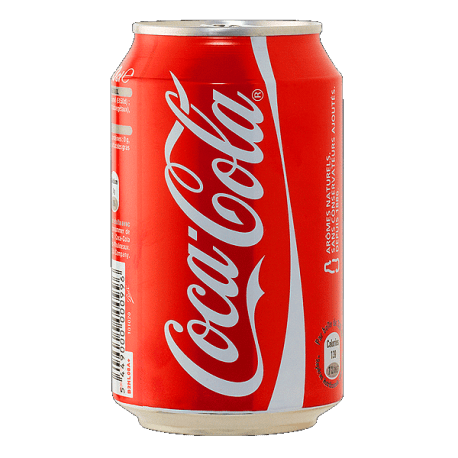coca_cola_can: (111, 22, 344, 435)
